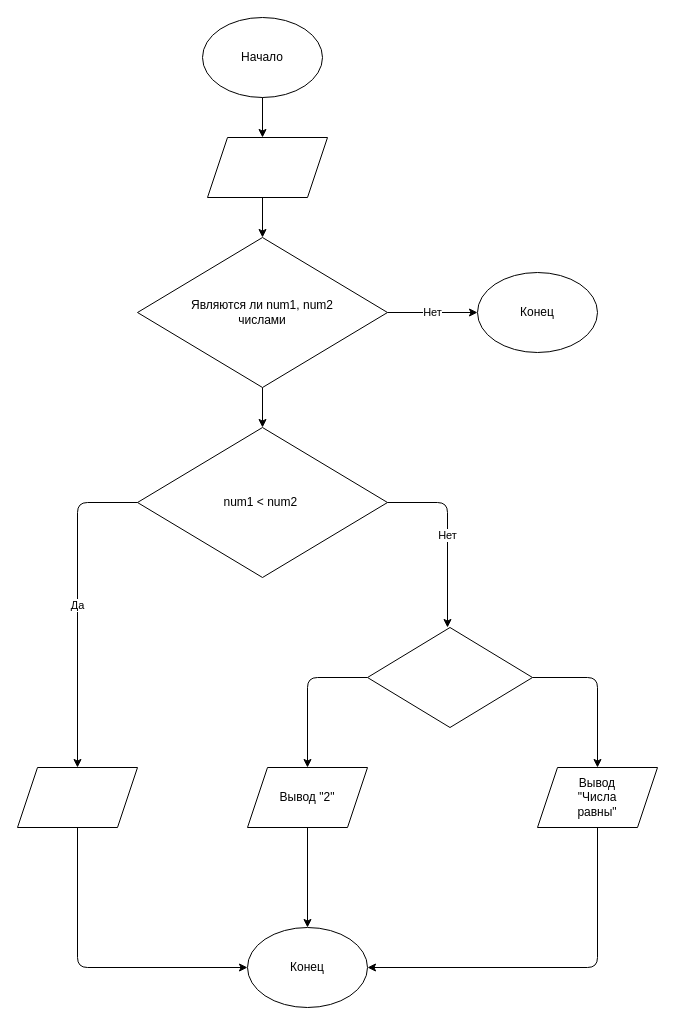
This 675x1025 diagram has some shape labels left out. The shapes that lost their labels are listed below. From the top down, each one's centre as x and y in pixels, then its label:
(x=267, y=167): Ввод num1, num2
(x=449, y=677): num2 < num1
(x=77, y=797): Вывод "1"
